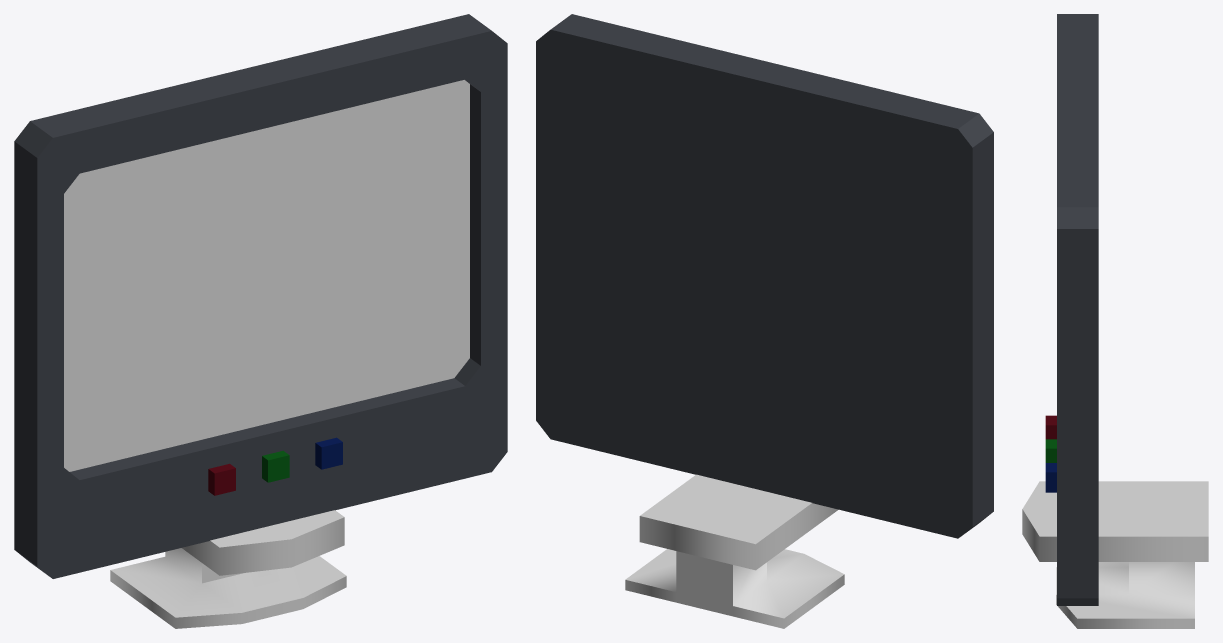
File: Monitor_01.fbx
3 views of the same model, side by side, from view 1: azimuth 30°, elevation 25°; view 2: azimuth 150°, elevation 25°; view 3: azimuth 270°, elevation 25° (orthographic). The views are drawn at different scales.
Visible parts, largest first — view 1: Monitor_01_Screen, Monitor_01_Frame, Monitor_01_base; view 2: Monitor_01_Frame, Monitor_01_base; view 3: Monitor_01_Frame, Monitor_01_base.
Part boxes in pixels (left/top/right/bottom): Monitor_01_Screen: left=64, top=80, right=469, bottom=471; Monitor_01_Frame: left=14, top=14, right=507, bottom=578; Monitor_01_base: left=110, top=510, right=346, bottom=628; Monitor_01_Frame: left=536, top=14, right=993, bottom=538; Monitor_01_base: left=625, top=474, right=844, bottom=628; Monitor_01_Frame: left=1045, top=14, right=1098, bottom=605; Monitor_01_base: left=1022, top=481, right=1208, bottom=628.
Size of the model in its own units: 0.4393 by 0.475 by 0.1667.
